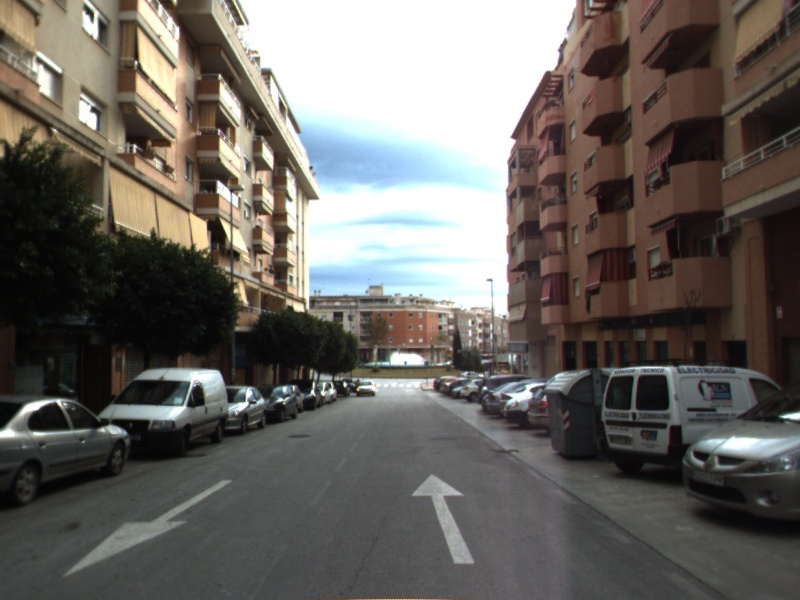STRAIGHT: (409, 472, 478, 566)
